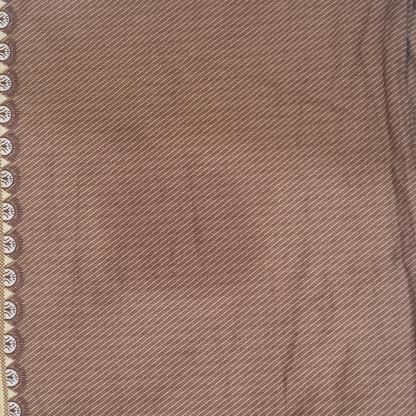spot: (74, 126, 281, 315)
